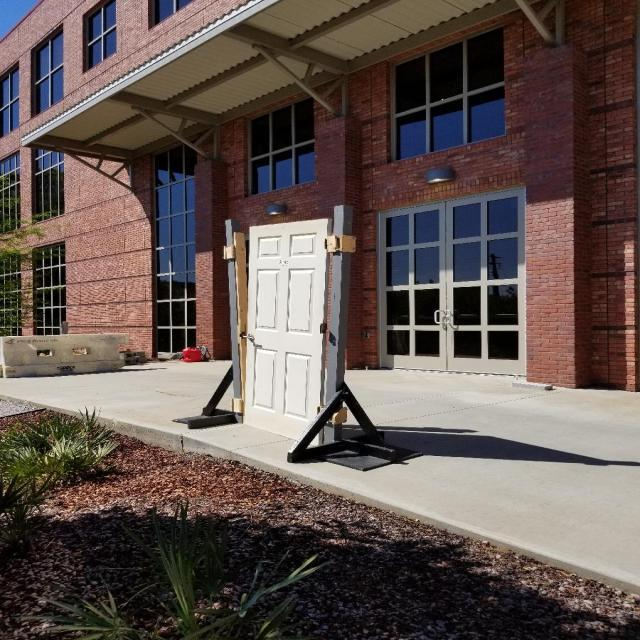door: (240, 215, 332, 450), (242, 328, 258, 346)
